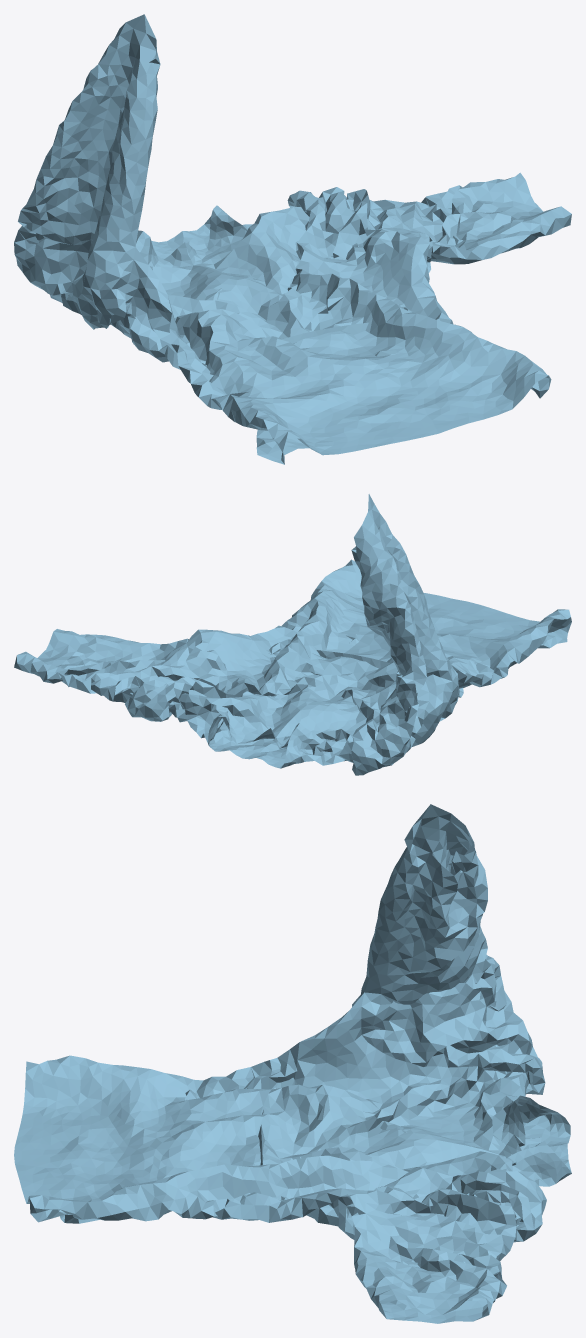
File: frame_11.glb
3 renders of one model, top to bottom at view 1: azimuth 30°, elevation 25°; view 2: azimuth 150°, elevation 25°; view 3: azimuth 270°, elevation 25°, orthographic. The views are drawn at different scales.
Parts seen in each view (by area): view 1: frame_11.obj; view 2: frame_11.obj; view 3: frame_11.obj.
Part boxes in pixels (x1,y1,x2,y2): frame_11.obj: (14, 14, 571, 464); frame_11.obj: (14, 494, 571, 775); frame_11.obj: (14, 804, 571, 1323).
Bounding box in the file's own units: 1.46 × 0.8535 × 1.35.
